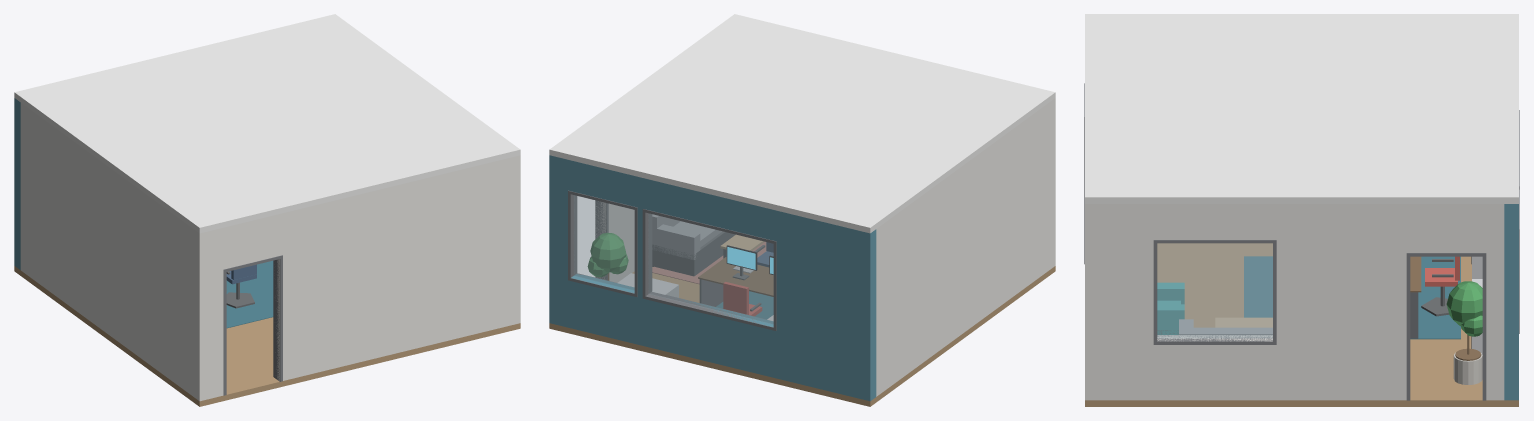
3 renders of one model, left to right at view 1: azimuth 30°, elevation 25°; view 2: azimuth 150°, elevation 25°; view 3: azimuth 270°, elevation 25°, orthographic. The views are drawn at different scales.
Parts seen in each view (by area): view 1: Ceiling, Wall_S, Wall_W, Floor, Rug, Frames_S, Wall_N, VisitorChair_1; view 2: Ceiling, Wall_N, Wall_W, Frames_N, Floor, Sofa, ExecDesk, Wall_E, Plant, Wall_S, ExecChair, Monitor_02 (+4 smaller); view 3: Ceiling, Wall_E, Frames_E, Floor, Rug, Wall_N, Wall_S, Plant, Armchair, ExecChair, Sofa, ExecDesk (+1 smaller).
Part boxes in pixels (x1=…): Ceiling: x1=14, y1=14, x2=520, y2=233; Wall_S: x1=193, y1=155, x2=520, y2=401; Wall_W: x1=20, y1=103, x2=193, y2=396; Floor: x1=14, y1=266, x2=520, y2=406; Rug: x1=226, y1=260, x2=273, y2=328; Frames_S: x1=223, y1=255, x2=282, y2=395; Wall_N: x1=14, y1=98, x2=20, y2=269; VisitorChair_1: x1=226, y1=264, x2=256, y2=308; Ceiling: x1=549, y1=14, x2=1055, y2=233; Wall_N: x1=549, y1=155, x2=876, y2=401; Wall_W: x1=876, y1=103, x2=1049, y2=396; Frames_N: x1=568, y1=190, x2=776, y2=330; Floor: x1=549, y1=266, x2=1055, y2=406; Sofa: x1=652, y1=214, x2=735, y2=276; ExecDesk: x1=698, y1=257, x2=773, y2=306; Wall_E: x1=595, y1=201, x2=634, y2=282; Plant: x1=587, y1=232, x2=628, y2=280; Wall_S: x1=1049, y1=98, x2=1055, y2=269; ExecChair: x1=723, y1=282, x2=762, y2=316; Monitor_02: x1=726, y1=245, x2=757, y2=279; Ceiling: x1=1085, y1=14, x2=1518, y2=203; Wall_E: x1=1099, y1=204, x2=1504, y2=400; Frames_E: x1=1153, y1=240, x2=1486, y2=400; Floor: x1=1085, y1=243, x2=1518, y2=406; Rug: x1=1244, y1=256, x2=1460, y2=339; Wall_N: x1=1504, y1=204, x2=1518, y2=400; Wall_S: x1=1085, y1=204, x2=1099, y2=400; Plant: x1=1446, y1=281, x2=1482, y2=384; Armchair: x1=1157, y1=282, x2=1184, y2=334; ExecChair: x1=1421, y1=256, x2=1459, y2=316; Sofa: x1=1179, y1=319, x2=1272, y2=334; ExecDesk: x1=1410, y1=256, x2=1421, y2=338.
Bounding box in the file's own units: 6.01 × 3.2 × 6.02.
